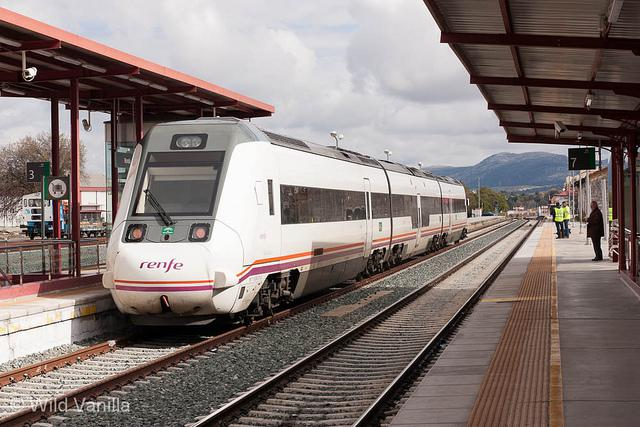Train: (103, 118, 469, 326)
